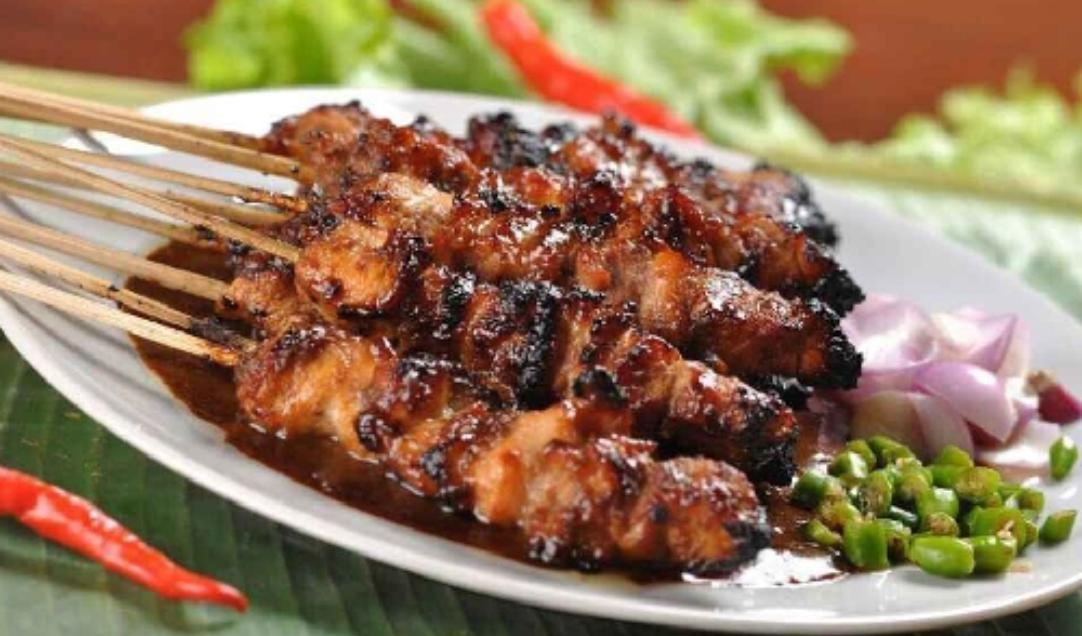sate_madura: (2, 58, 850, 581)
